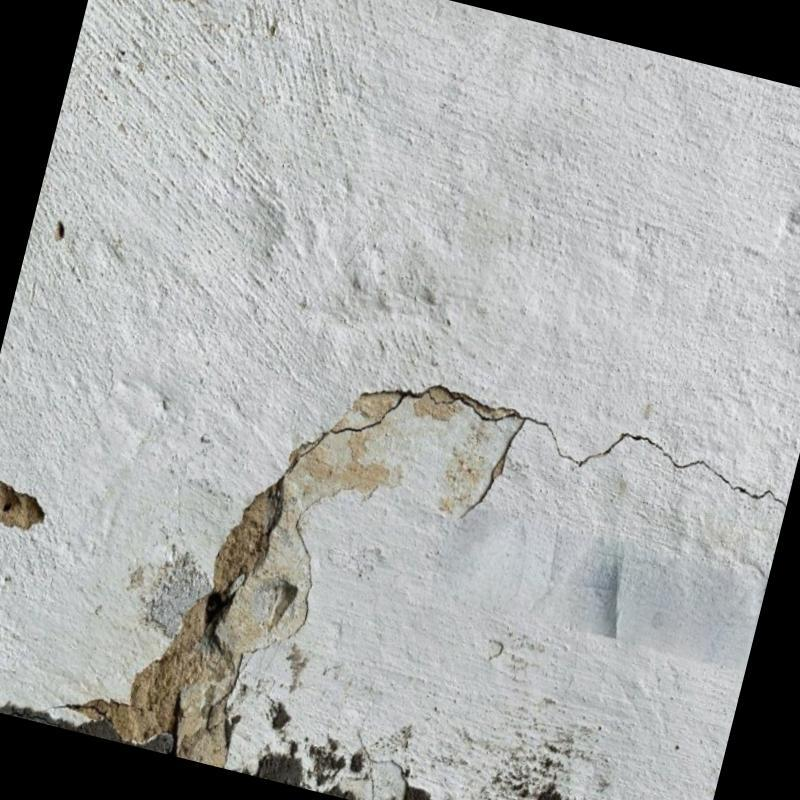crack: (273, 390, 515, 505), (514, 414, 785, 508), (458, 420, 525, 521)
